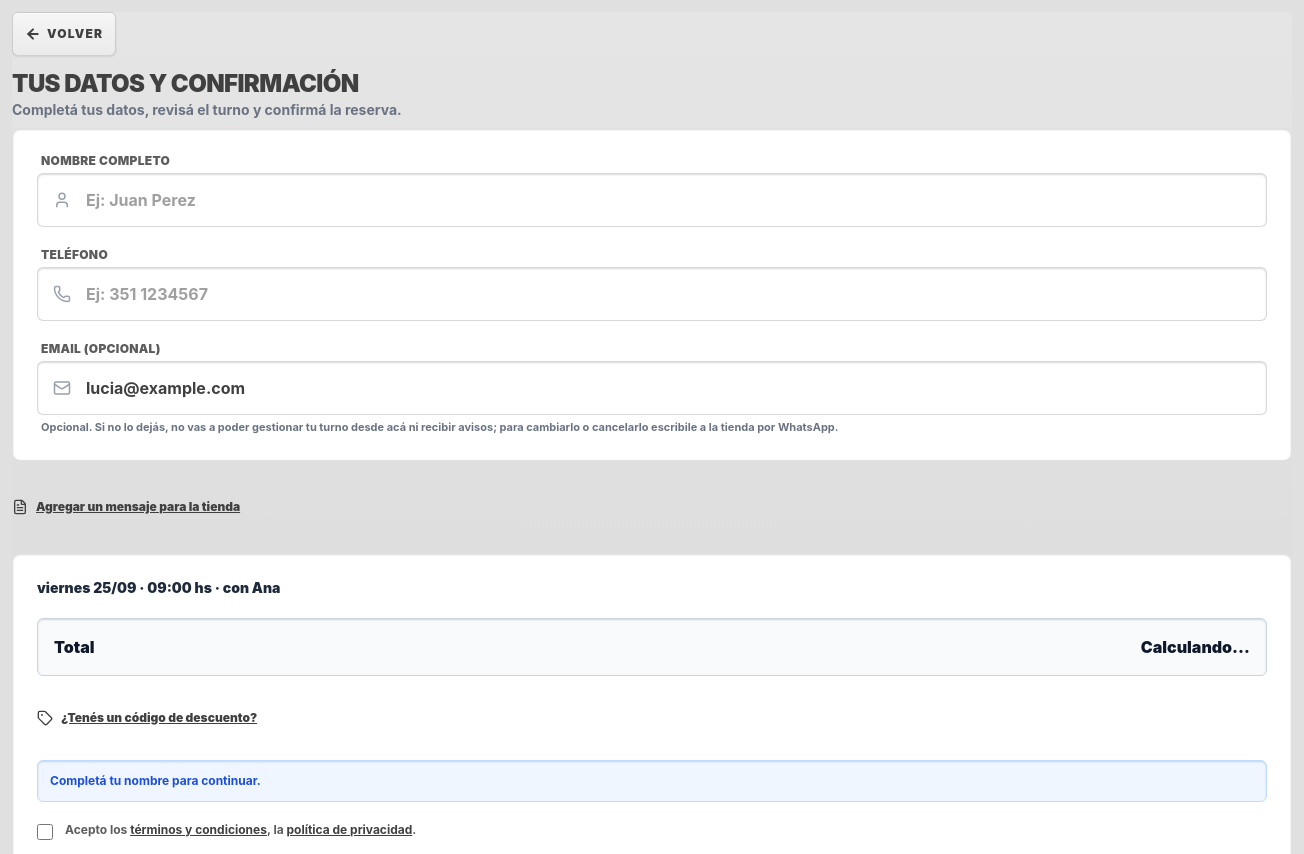
BookingStepConfirmation › formulario › el telefono muestra un ejemplo y las notas dicen para quien son
This screenshot has width=1304, height=854.
Plegadas detras de un link desde S5.
Click the button "Agregar un mensaje para la tienda".
click(126, 506)  # box [12,484,240,528]
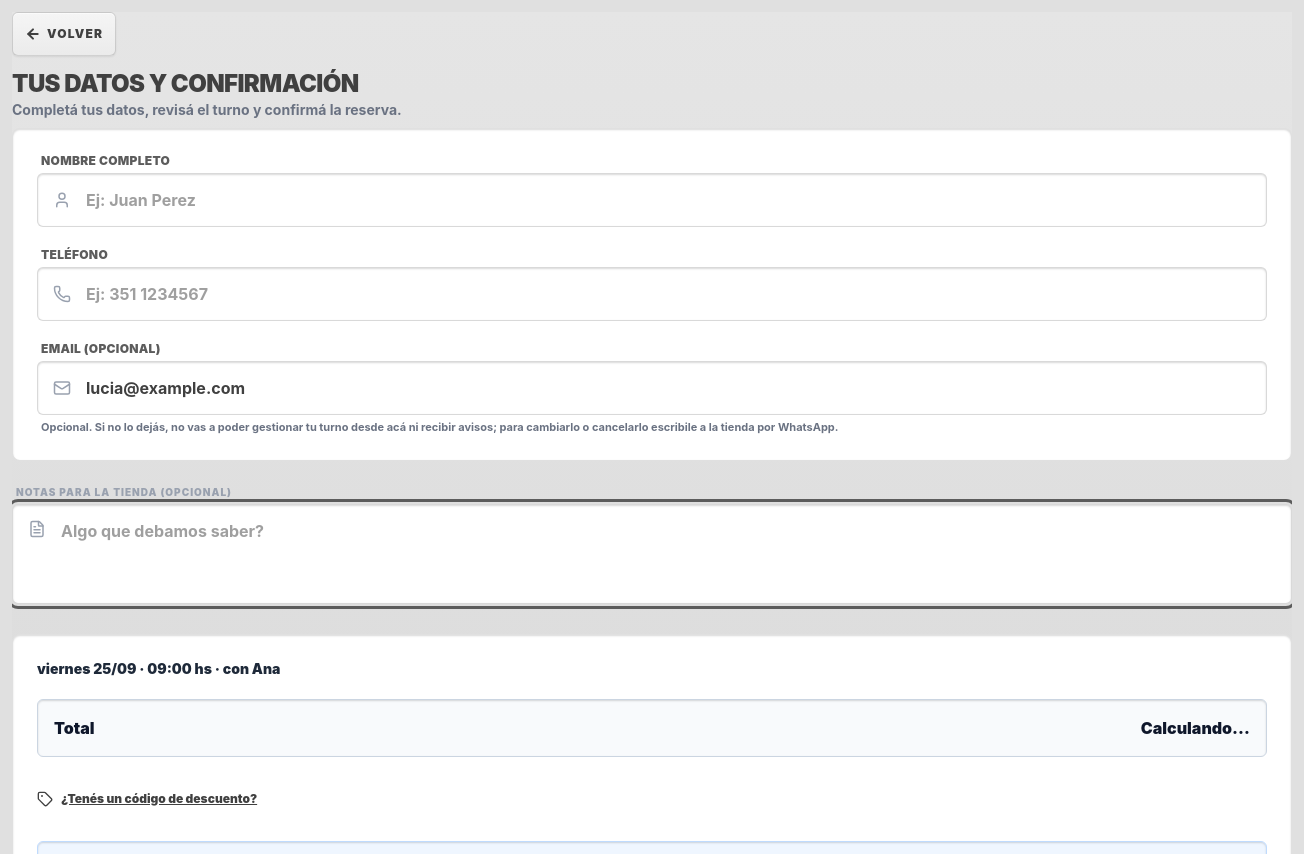
Now the text box labelled "Notas para la tienda (opcional)" is shown, box [12,504,1292,604]
